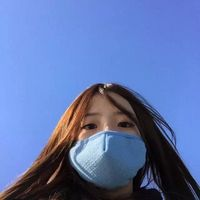face_mask: (67, 91, 144, 186)
